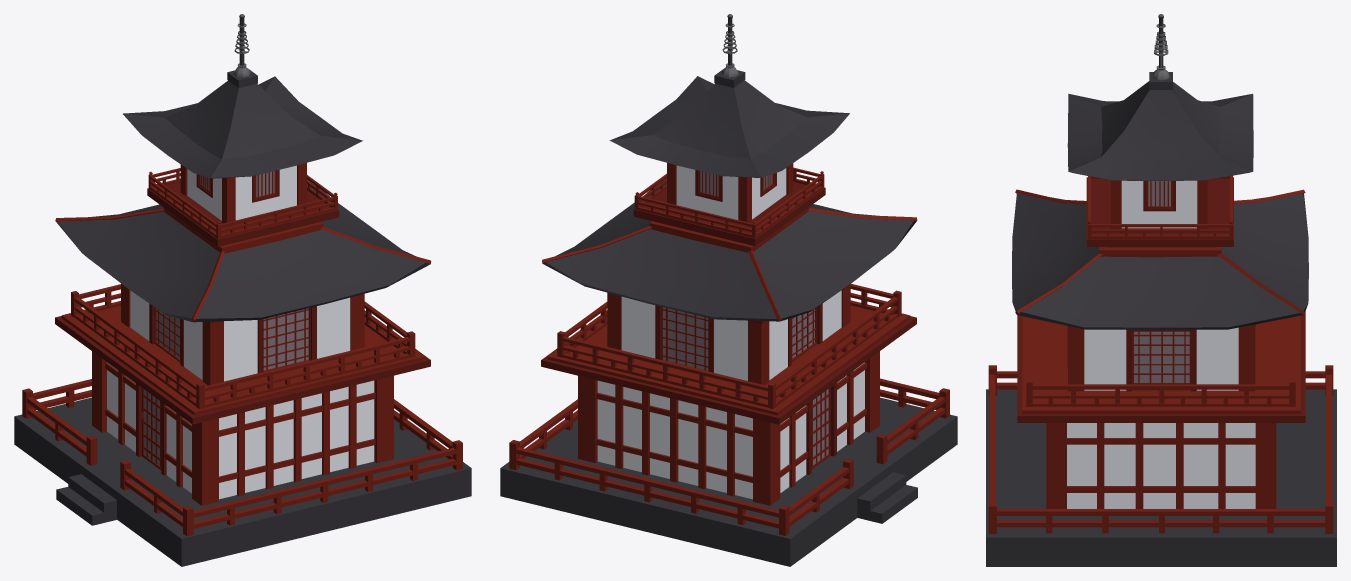
The model's file is houme011.fbx.
3 views of the same model, side by side, from view 1: azimuth 30°, elevation 25°; view 2: azimuth 150°, elevation 25°; view 3: azimuth 270°, elevation 25° (orthographic). The views are drawn at different scales.
Visible parts, largest first — view 1: houme_11, foundation_11_1, fence_11_1, fence_11_2, on_the_roof_11_1; view 2: houme_11, foundation_11_1, fence_11_1, fence_11_2, on_the_roof_11_1; view 3: houme_11, foundation_11_1, fence_11_1, fence_11_2, on_the_roof_11_1.
Boxes of the visible parts, bbox=[...] form: houme_11: bbox=[55, 76, 431, 505]; foundation_11_1: bbox=[14, 397, 471, 566]; fence_11_1: bbox=[22, 379, 462, 536]; fence_11_2: bbox=[71, 284, 415, 409]; on_the_roof_11_1: bbox=[227, 14, 257, 88]; houme_11: bbox=[541, 76, 917, 505]; foundation_11_1: bbox=[500, 397, 957, 566]; fence_11_1: bbox=[509, 378, 949, 535]; fence_11_2: bbox=[557, 283, 901, 408]; on_the_roof_11_1: bbox=[714, 14, 745, 87]; houme_11: bbox=[1012, 81, 1308, 508]; foundation_11_1: bbox=[986, 389, 1336, 566]; fence_11_1: bbox=[988, 365, 1333, 533]; fence_11_2: bbox=[1026, 317, 1295, 406]; on_the_roof_11_1: bbox=[1149, 14, 1172, 89].
Bounding box in the file's own units: 1766 × 2446 × 1627.
